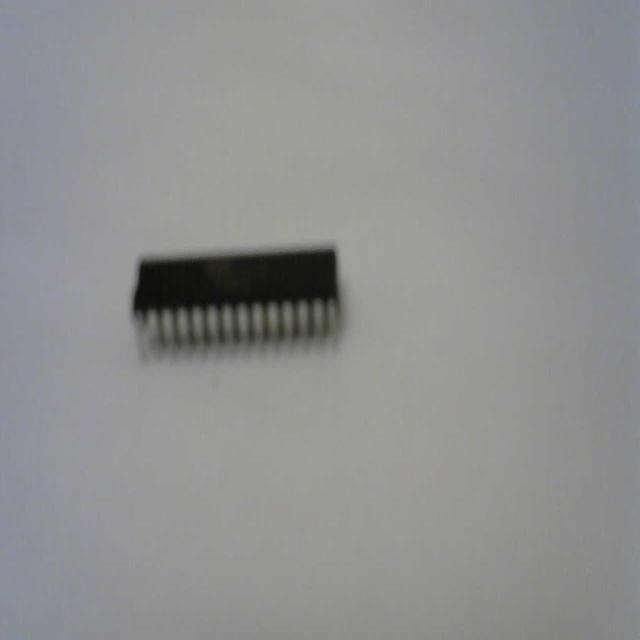atmega: (130, 239, 343, 364)
